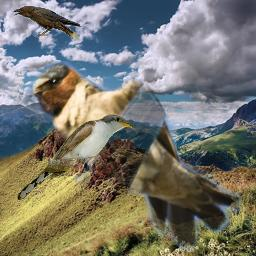Crow: (11, 4, 83, 39)
Cuckoo: (15, 113, 137, 201)
Swallow: (26, 61, 242, 252)
